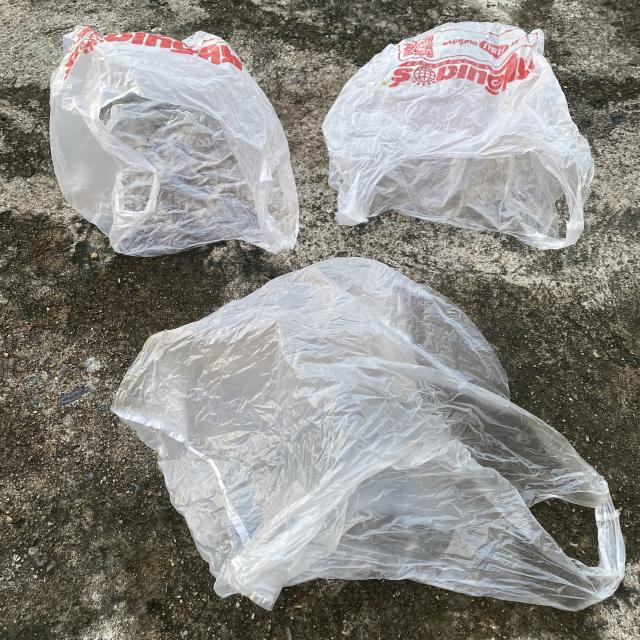Single-layer Plastic: (112, 258, 625, 610), (322, 22, 594, 249), (50, 26, 299, 256)
